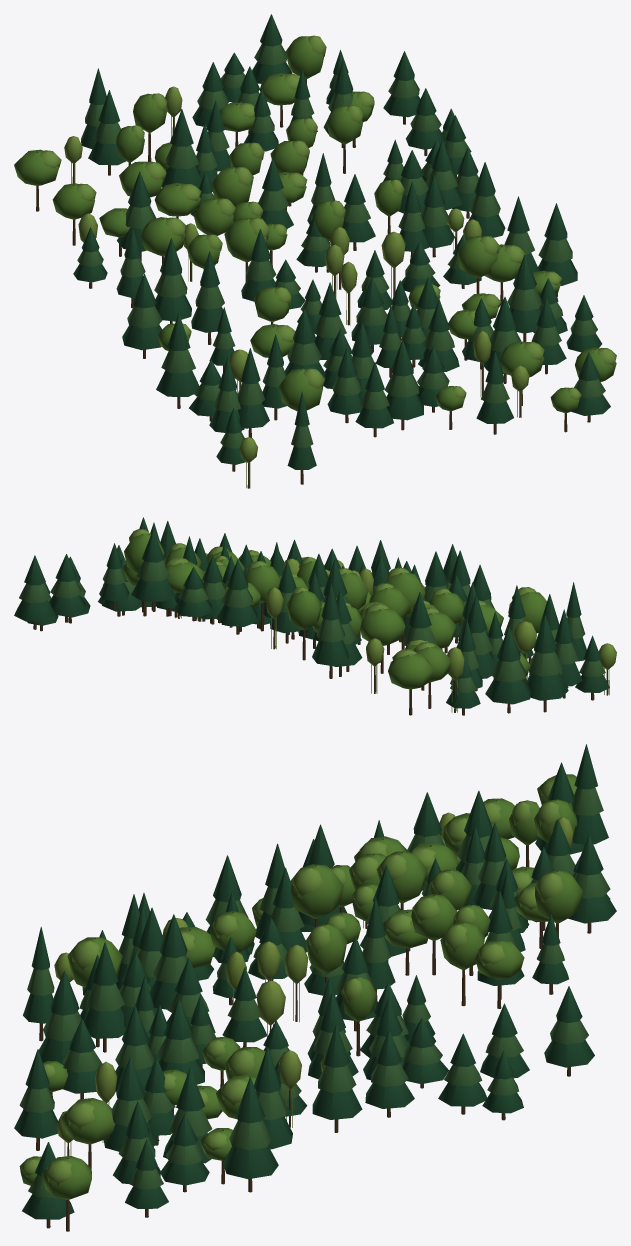
The model's file is forest_1_3.dae.
The picture shows the model from 3 angles, top to bottom: view 1: azimuth 30°, elevation 25°; view 2: azimuth 150°, elevation 25°; view 3: azimuth 270°, elevation 25°; orthographic projection. The views are drawn at different scales.
Visible parts, largest first — view 1: forest_1_3; view 2: forest_1_3; view 3: forest_1_3.
Part boxes in pixels (<box>): forest_1_3: <box>14,14,616,488</box>; forest_1_3: <box>14,517,616,715</box>; forest_1_3: <box>14,744,616,1231</box>.
Size of the model in its own units: 133 by 131 by 80.02.
